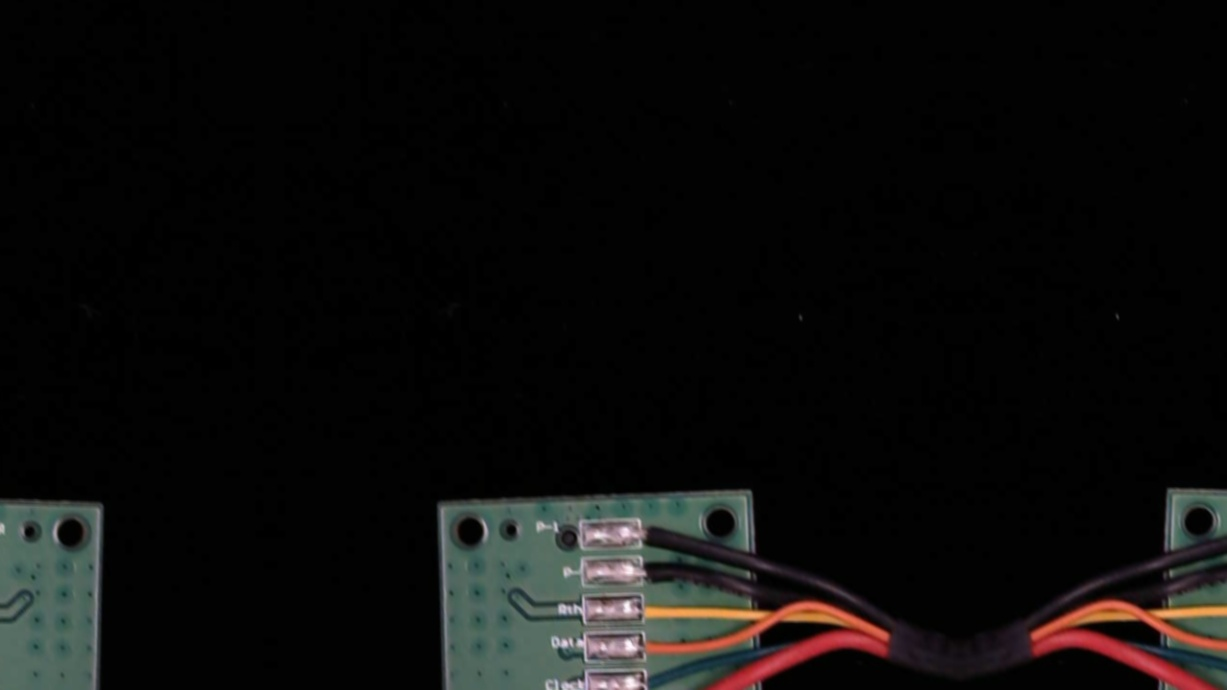Black: (624, 556, 687, 586)
Black1: (623, 518, 688, 547)
Green: (627, 670, 690, 690)
Orange: (628, 631, 685, 660)
Yellow: (625, 595, 692, 624), (1227, 593, 1227, 622)
